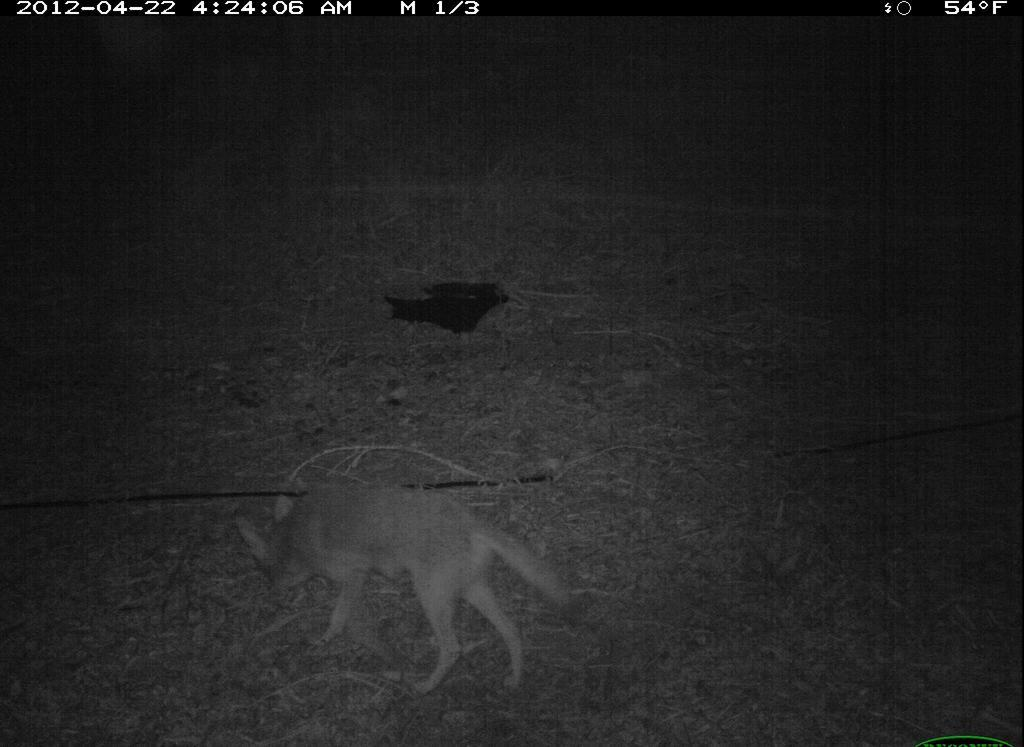coyote: (226, 474, 580, 703)
